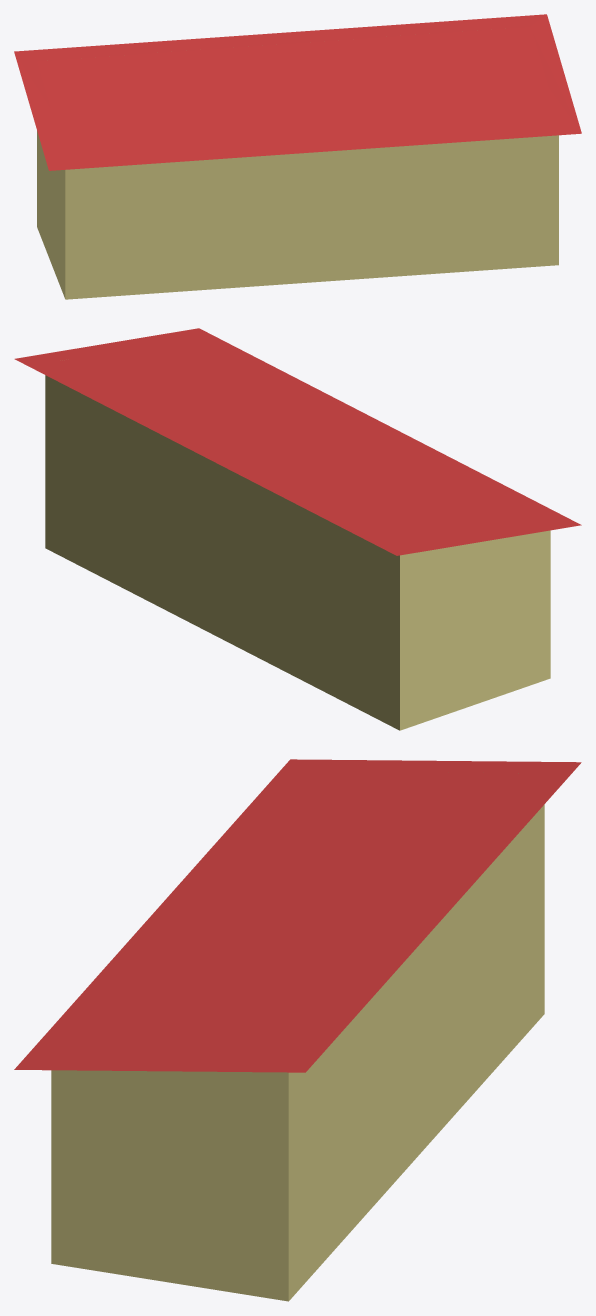
The picture shows the model from 3 angles, top to bottom: view 1: azimuth 30°, elevation 25°; view 2: azimuth 150°, elevation 25°; view 3: azimuth 270°, elevation 25°; orthographic projection. The views are drawn at different scales.
Bounding box in the file's own units: 29.14 × 19.61 × 9.32.
